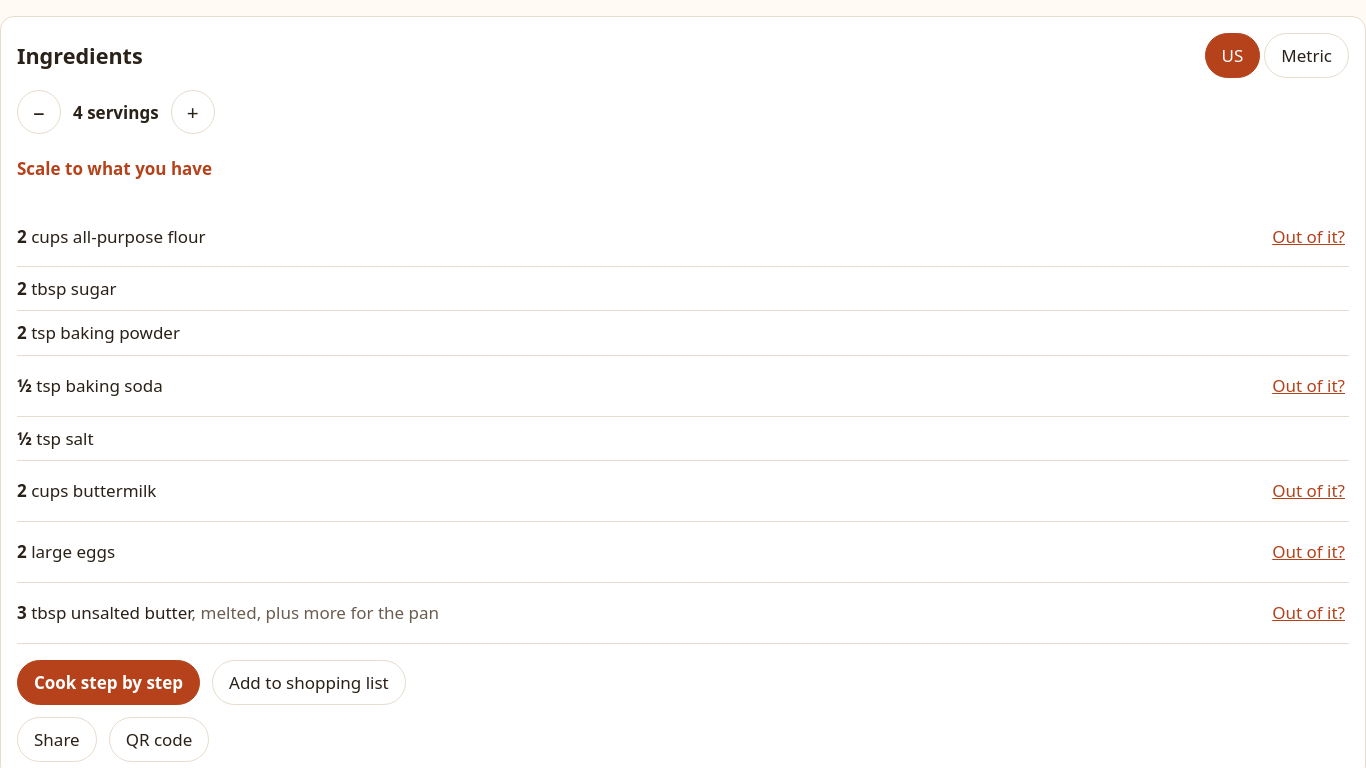
Test: RecipePanel › scales ingredients when servings change
This screenshot has width=1366, height=768.
Check: the list item "2 cups all-purpose flour Out of it?" is shown, box [17, 206, 1349, 267]
Click the button named "More servings" at (193, 112), box [171, 90, 215, 134]
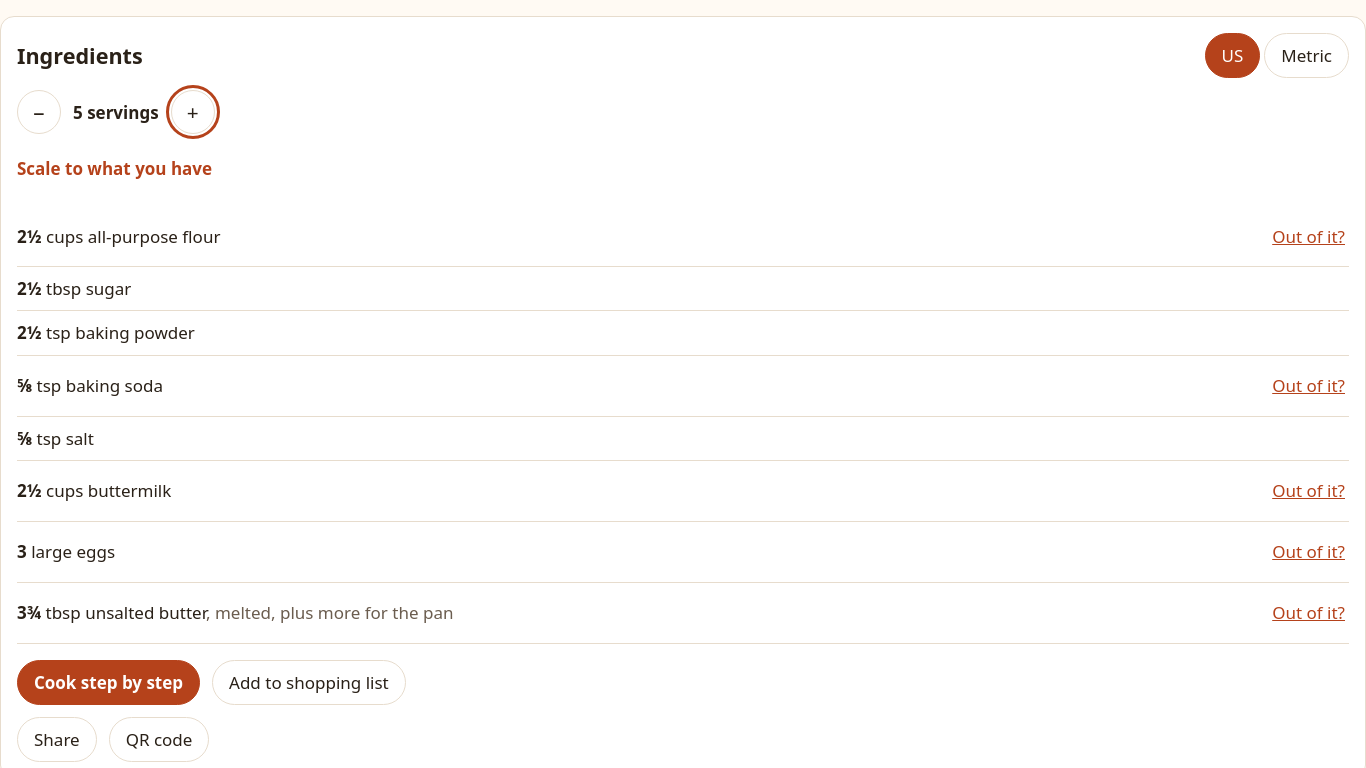
Click the button named "More servings" at (193, 112), box [171, 90, 215, 134]
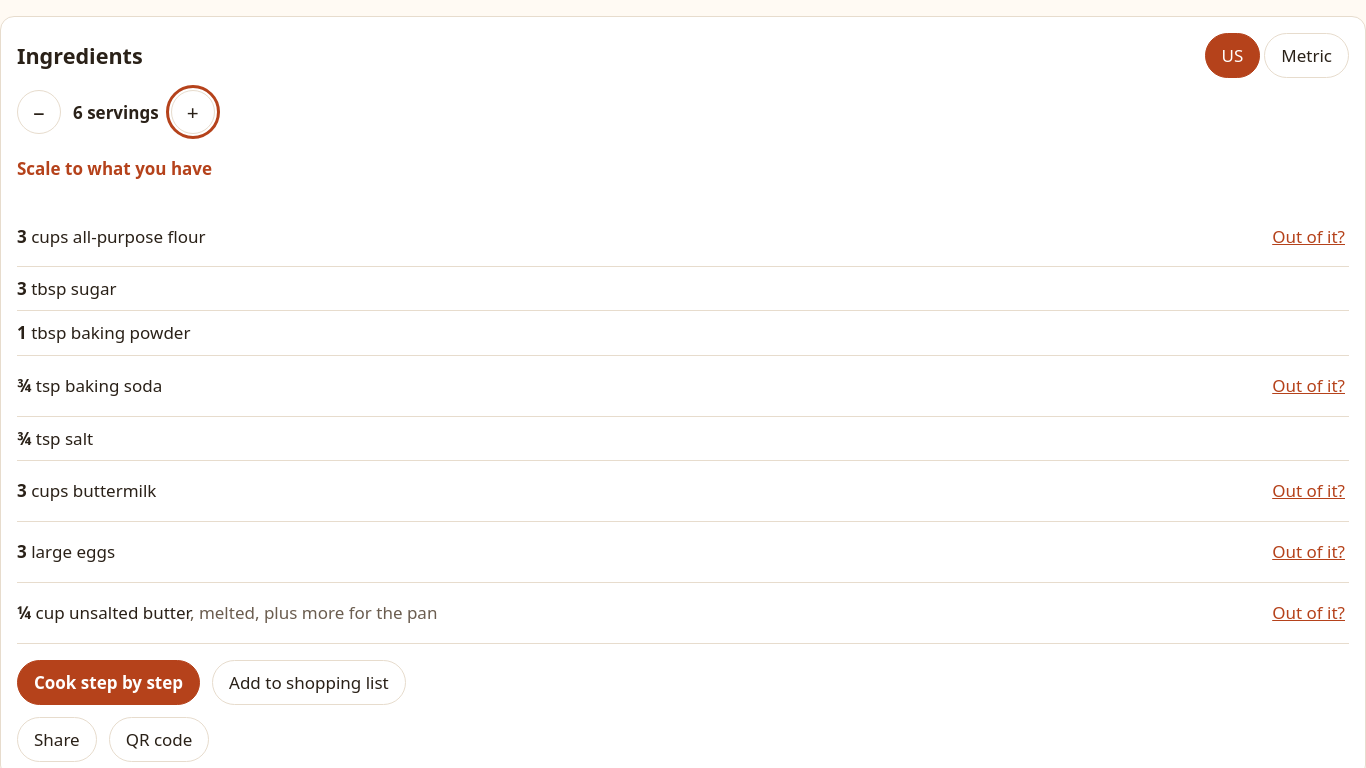
Check: the text "6 servings" is shown, box [73, 99, 159, 126]
Check: the list item "3 cups all-purpose flour Out of it?" is shown, box [17, 206, 1349, 267]
